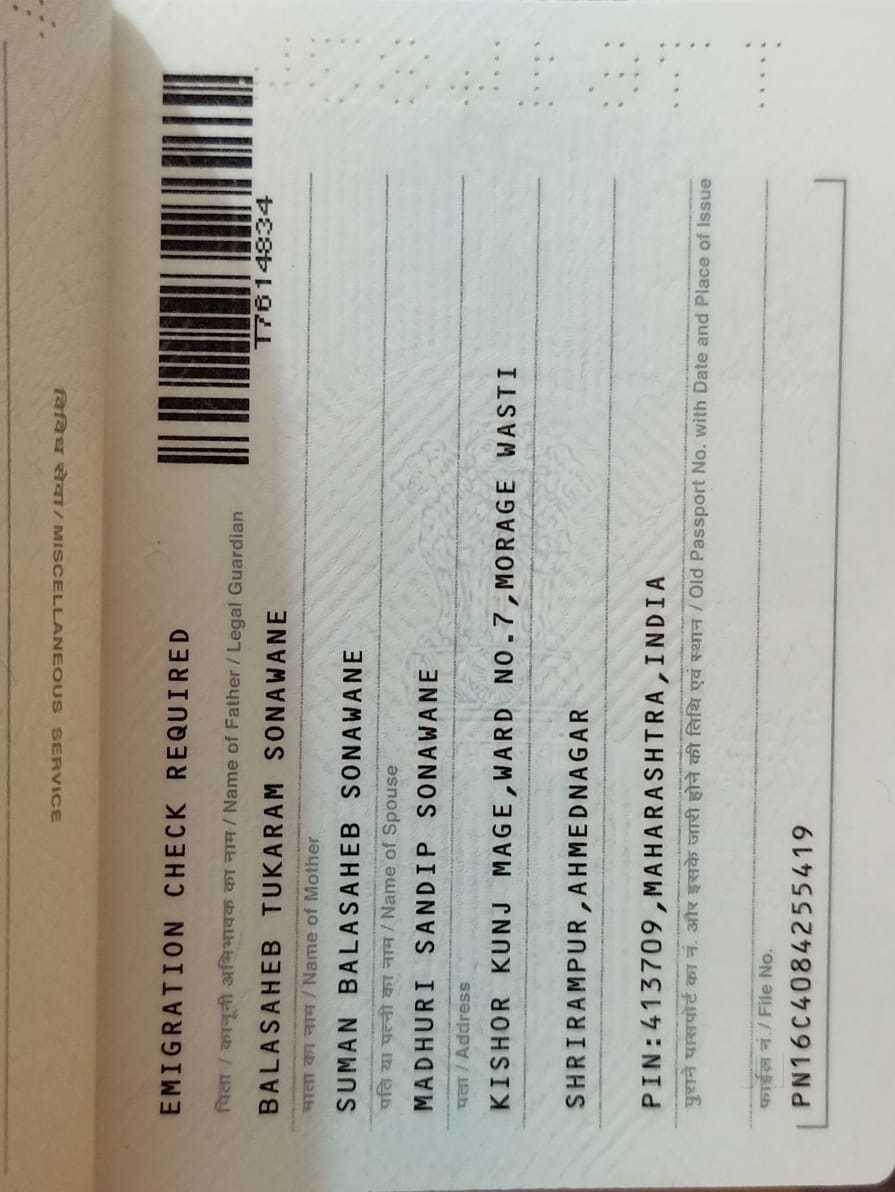File_no: (782, 811, 821, 1119)
address: (477, 357, 673, 1128)
father_name: (245, 595, 300, 1132)
mother_name: (328, 630, 387, 1136)
passport_no: (251, 193, 280, 358)
spouse_name: (398, 638, 450, 1126)
